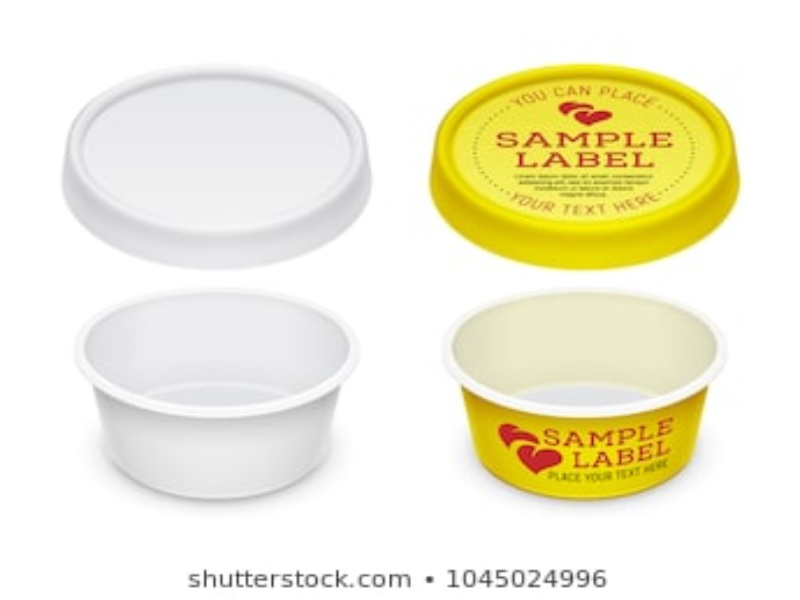plastic-container: (443, 286, 734, 498), (72, 291, 355, 502)
